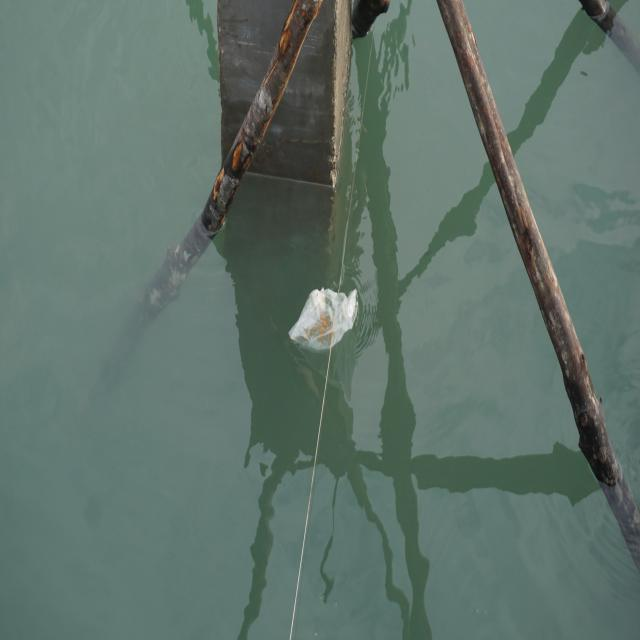Kantong Plastik: (290, 286, 362, 356)
